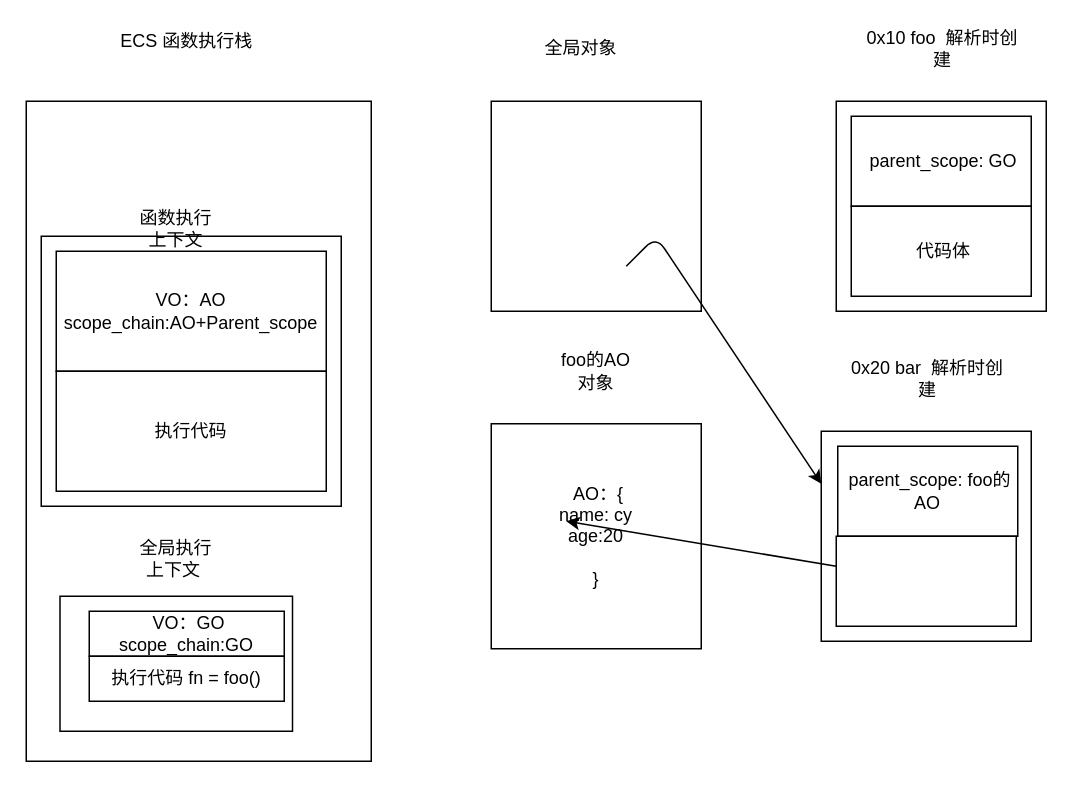
This 1073x788 diagram has some shape labels left out. Here are the shapes that lost their labels. From the top down, the centre of each, then its label:
At point (595, 205): "GO：{ String Date Number …… window fn:0x20 }".
At point (925, 580): "console.log(name)".
